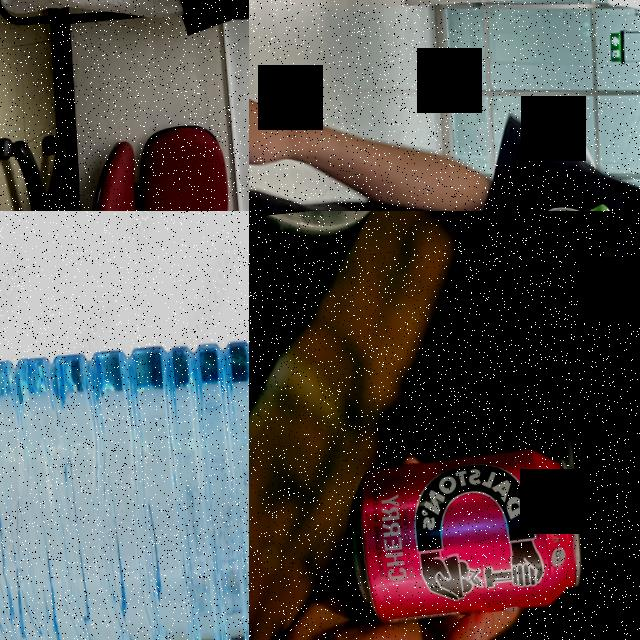bottle: (0, 313, 249, 640)
can: (339, 445, 589, 631)
